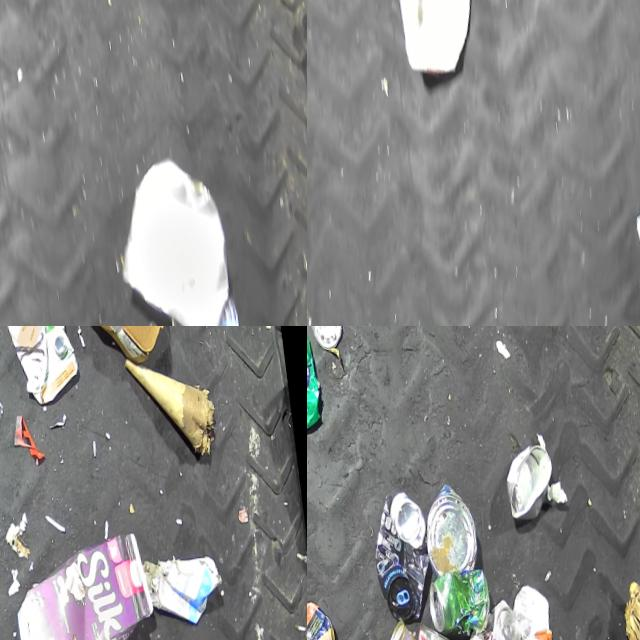can: (366, 488, 437, 623), (418, 480, 482, 576), (423, 566, 491, 639), (500, 438, 557, 520), (462, 596, 525, 640), (167, 290, 243, 326), (307, 326, 323, 433), (307, 597, 339, 640), (376, 618, 421, 640), (308, 326, 344, 351)
milk_jug: (386, 0, 484, 77)
non_white_jug: (8, 530, 160, 640), (0, 326, 81, 404)
